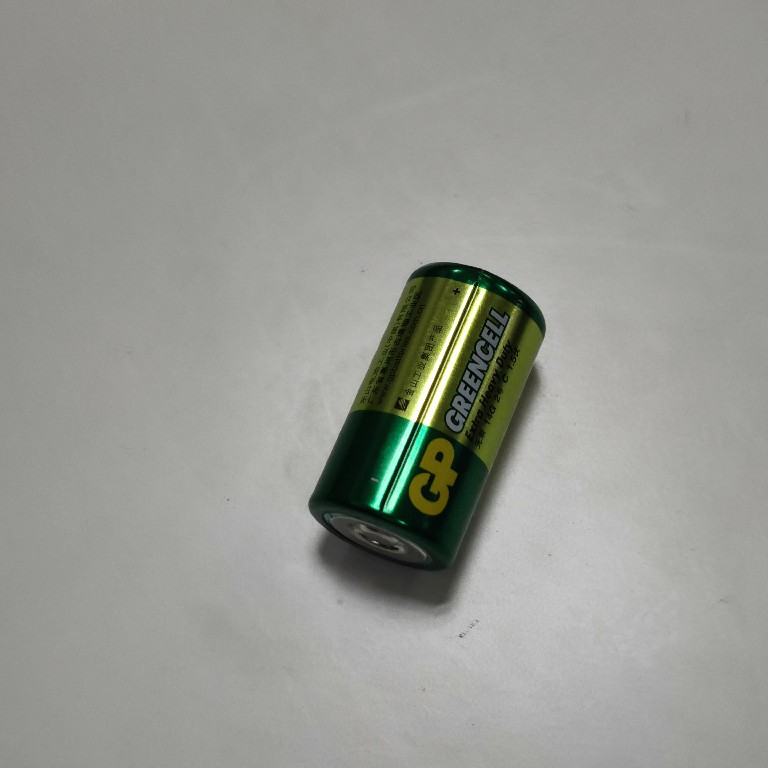charge: (302, 260, 550, 575)
